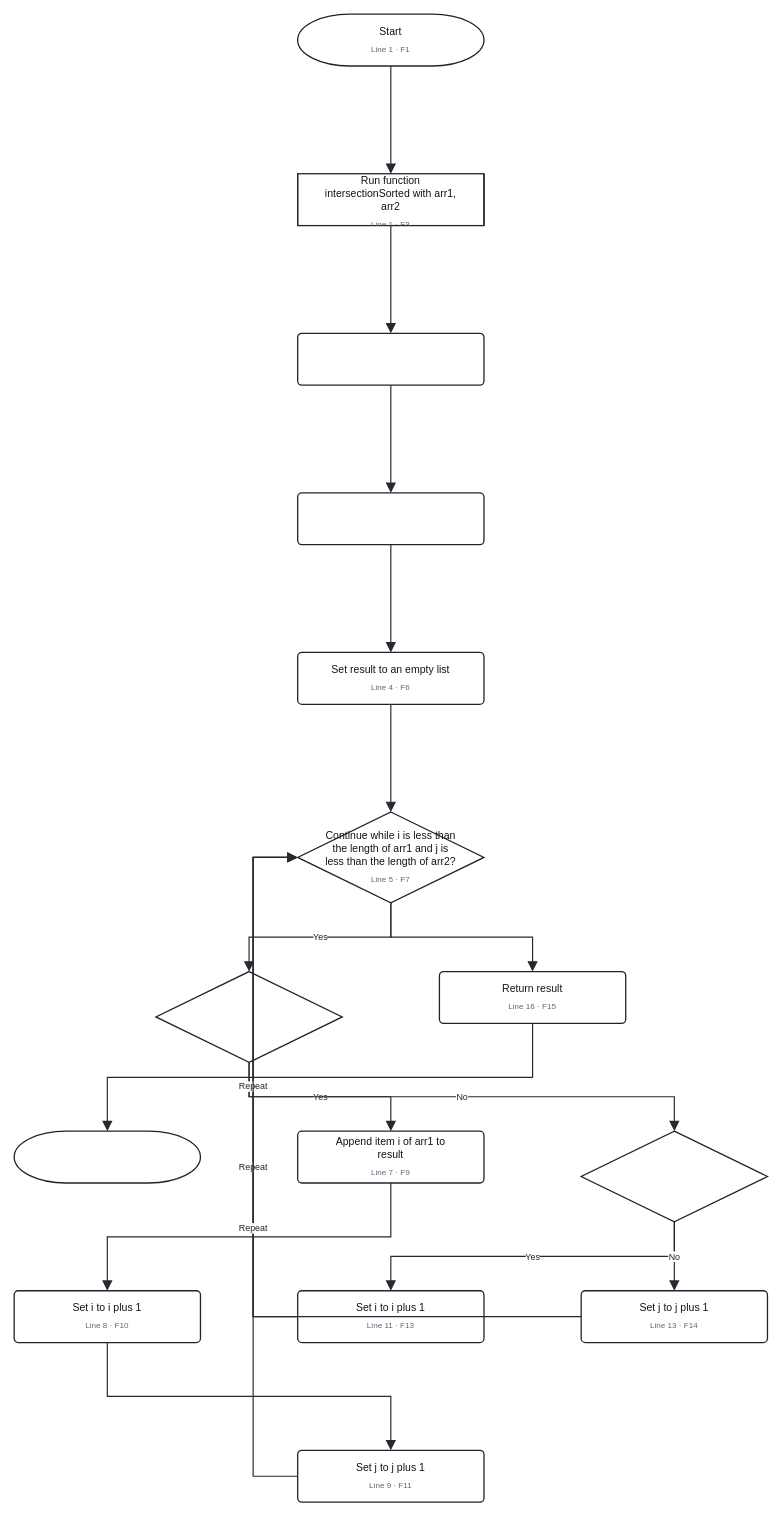
The diagram is 782 pixels wide and 1517 high, and some of its shapes have lost their labels. Each missing label, with the centre of its shape:
End Line 1 · F2: the point at 107,1156
Item i of arr1 is equal to item j of arr2? Line 6 · F8: the point at 248,1017
Item i of arr1 is less than item j of arr2? Line 10 · F12: the point at 674,1176
Set i to 0 Line 2 · F4: the point at 390,358
Set j to 0 Line 3 · F5: the point at 390,518
